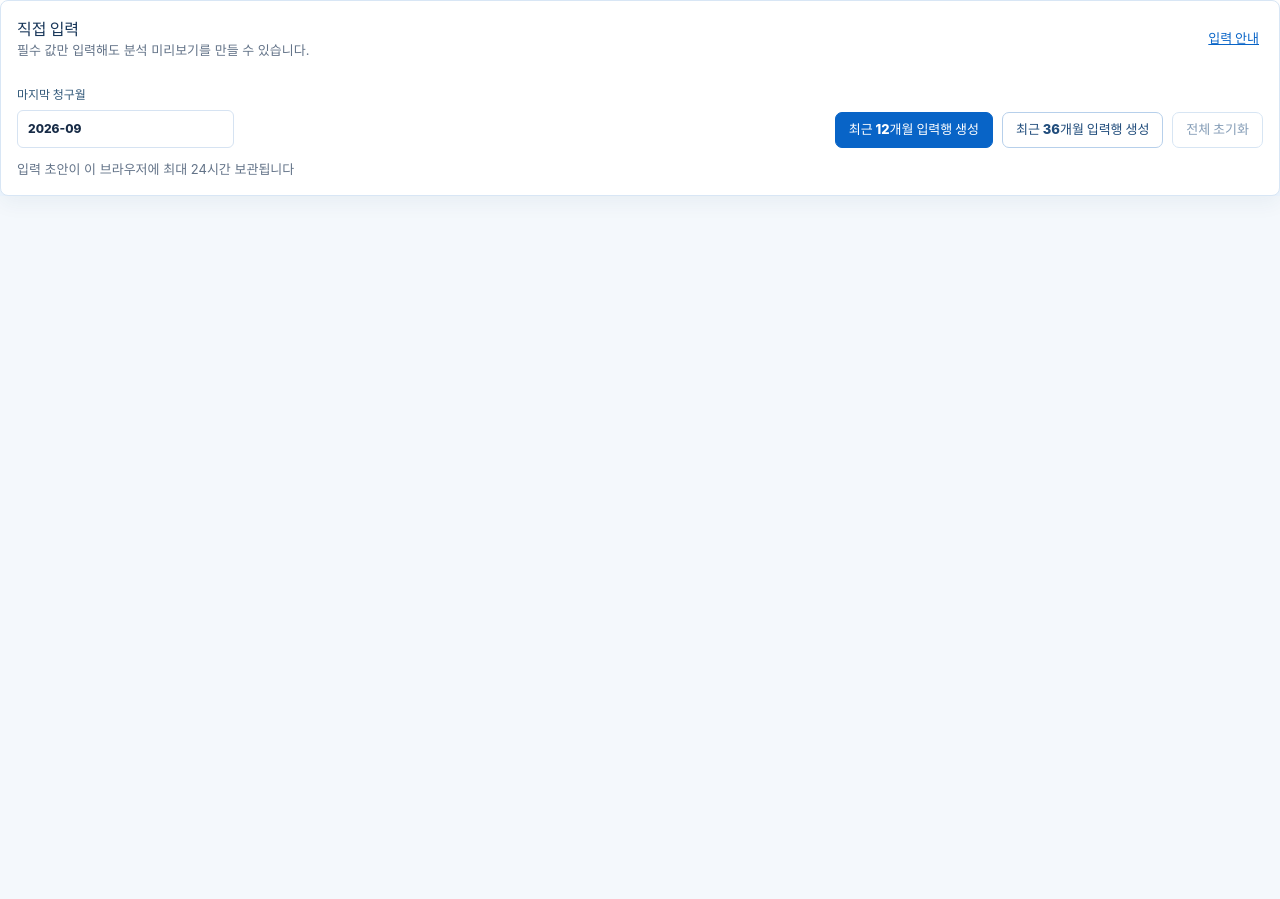
ManualBillInput › caps direct entry at 36 rows
Click the button "최근 36개월 입력행 생성": (1083, 130) [1002,112,1163,148]
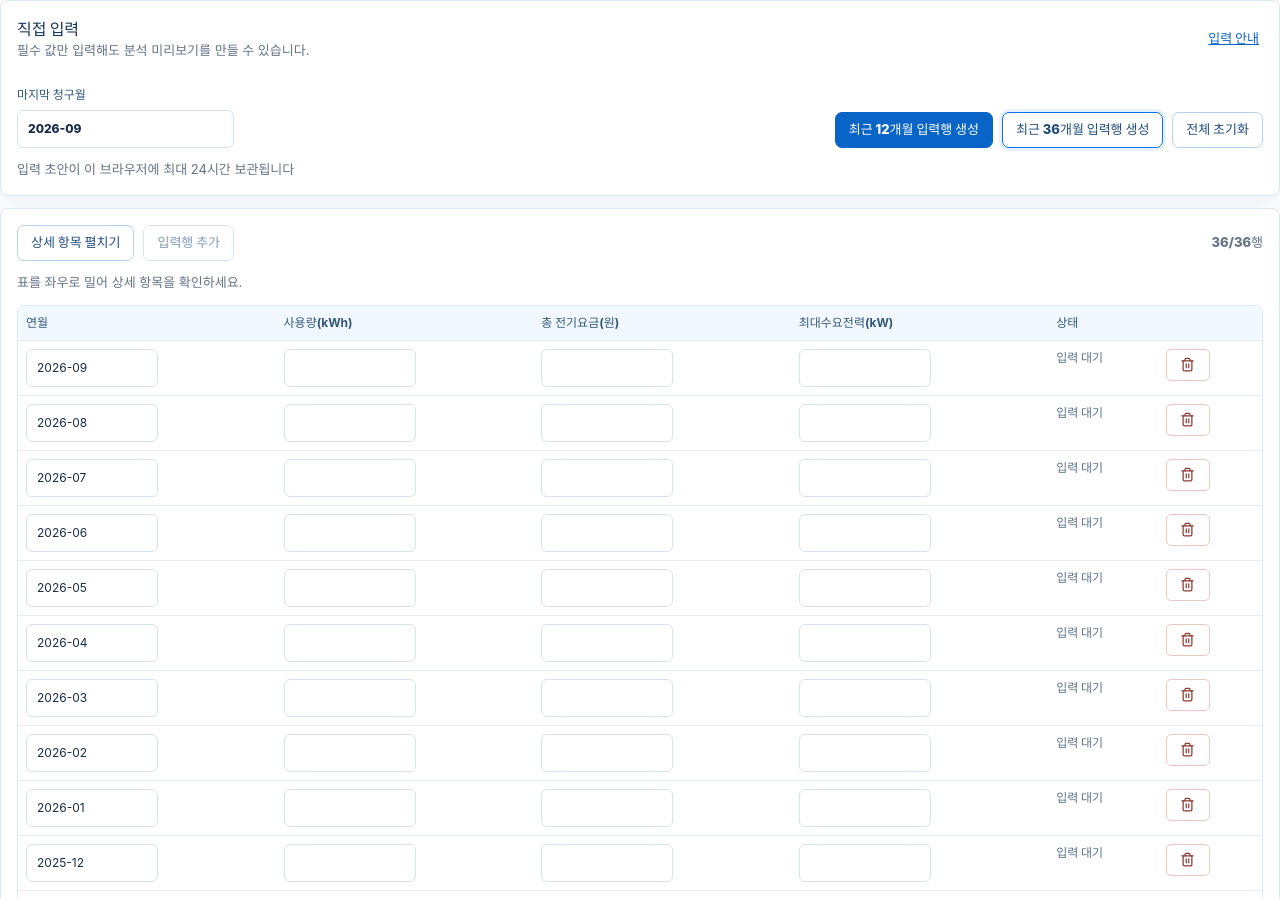
Now the number of fields named "사용량(kWh)" is 36
Now the button "입력행 추가" is disabled, box [143,225,234,261]
